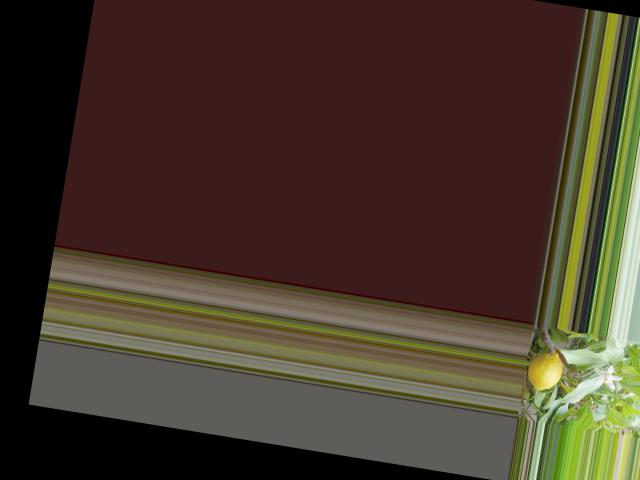lemon: (524, 345, 570, 395)
